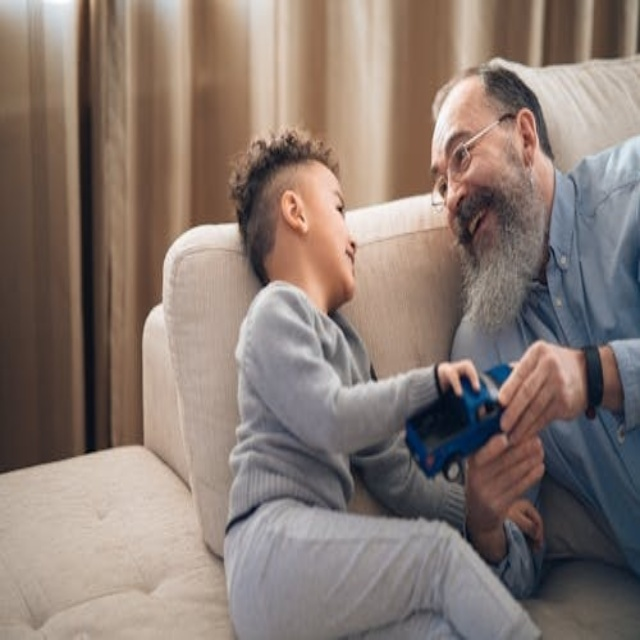Gafas: (431, 114, 518, 210)
Sin_gafas: (314, 177, 352, 225)
Sin_guantes: (497, 327, 586, 446), (466, 412, 547, 539), (426, 336, 486, 400)
Sin_mascara: (457, 192, 500, 269), (323, 231, 357, 286)
